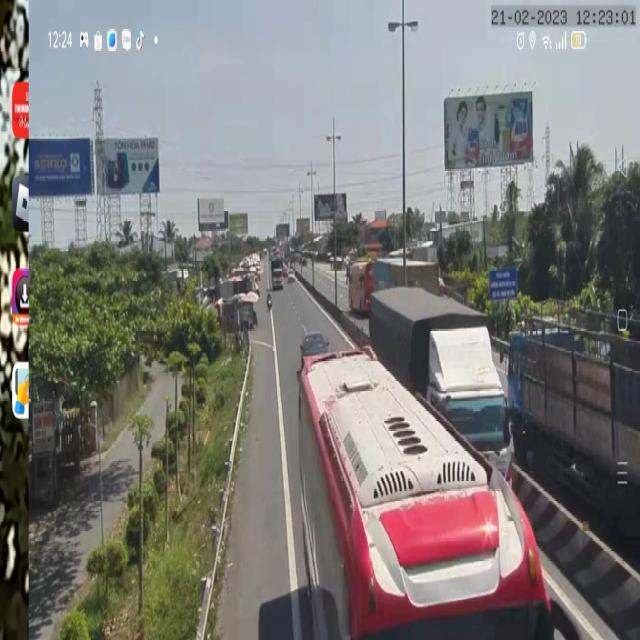bus: (297, 350, 571, 640), (343, 260, 374, 318)
truck: (507, 300, 640, 557), (370, 284, 512, 498), (371, 257, 439, 315)
